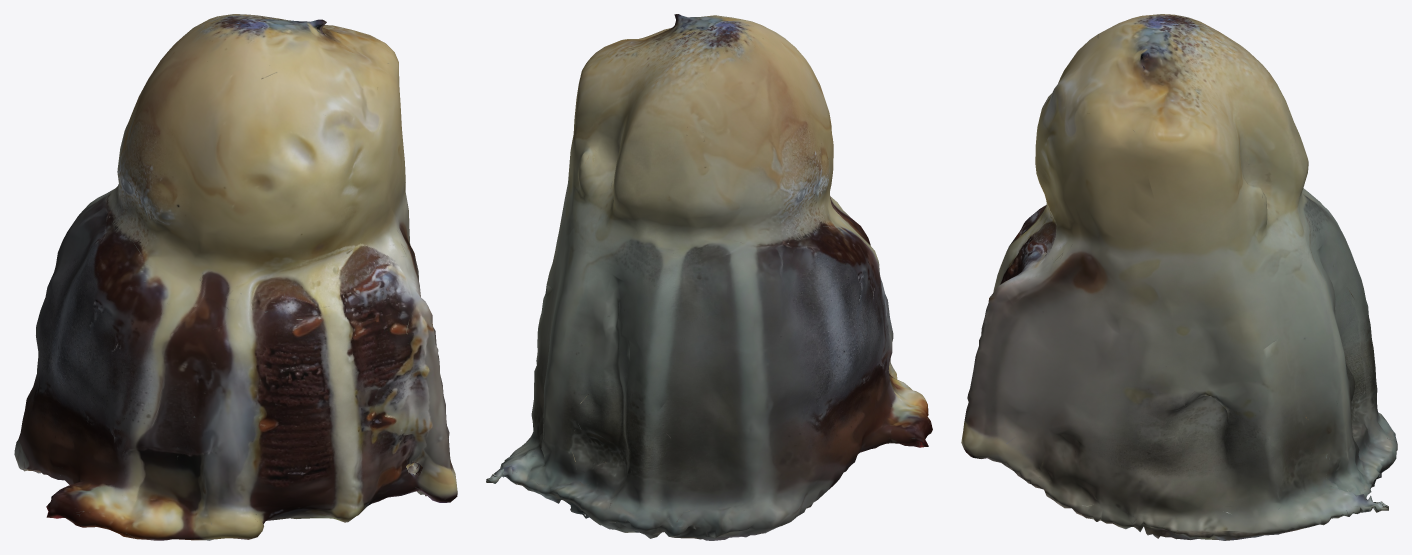
File: sticky.glb
The picture shows the model from 3 angles, left to right: view 1: azimuth 30°, elevation 25°; view 2: azimuth 150°, elevation 25°; view 3: azimuth 270°, elevation 25°; orthographic projection. The views are drawn at different scales.
Parts seen in each view (by area): view 1: Mesh_0.001; view 2: Mesh_0.001; view 3: Mesh_0.001.
Part boxes in pixels (x1,y1,x2,y2): Mesh_0.001: [14, 14, 457, 540]; Mesh_0.001: [486, 14, 932, 540]; Mesh_0.001: [961, 14, 1397, 540].
Bounding box in the file's own units: 0.9743 × 1.2 × 1.04.
1 material, 1 textured.
